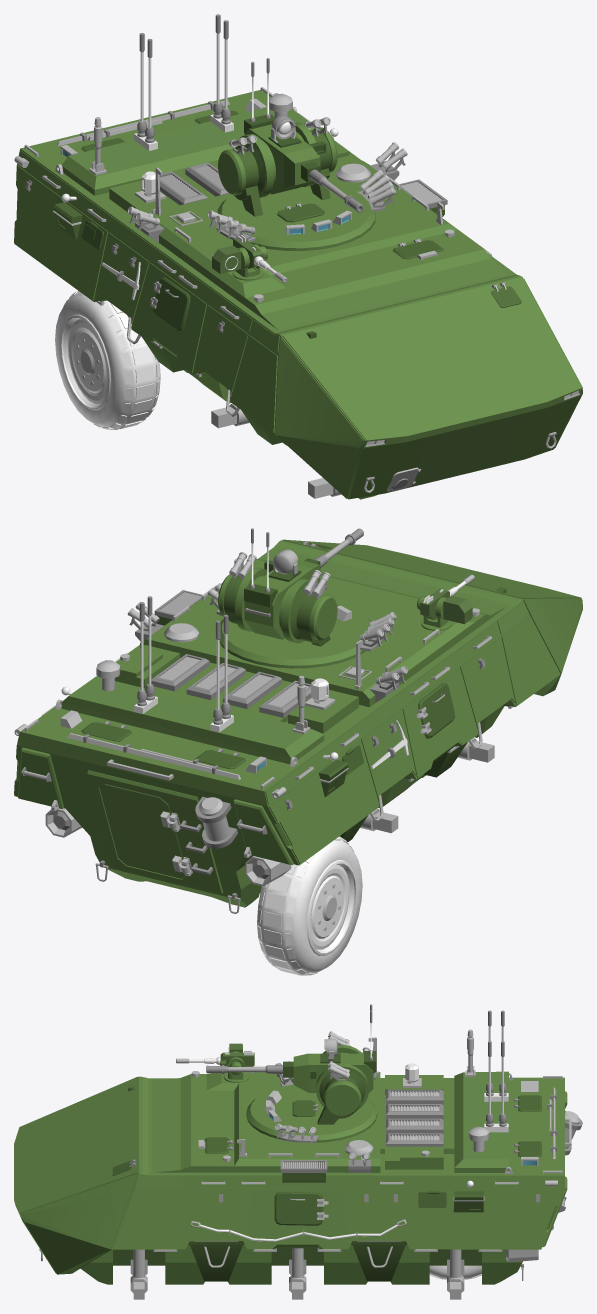
The model's file is APC.fbx.
3 views of the same model, one above another, from view 1: azimuth 30°, elevation 25°; view 2: azimuth 150°, elevation 25°; view 3: azimuth 270°, elevation 25° (orthographic). The views are drawn at different scales.
Parts seen in each view (by area): view 1: APC Body, Autocannon Tower, APC Wheel, Autocannon, Gun Turret; view 2: APC Body, Autocannon Tower, APC Wheel, Autocannon, Gun Turret, Gun Turret Tower; view 3: APC Body, Autocannon Tower, Autocannon, Gun Turret, APC Wheel, Gun Turret Tower.
Boxes of the visible parts, box(x1,y1,x2,y2) form: APC Body: box(14, 14, 582, 499); Autocannon Tower: box(207, 117, 396, 250); APC Wheel: box(55, 290, 160, 429); Autocannon: box(244, 58, 363, 212); Gun Turret: box(212, 235, 287, 282); APC Body: box(14, 539, 582, 913); Autocannon Tower: box(207, 552, 396, 668); APC Wheel: box(257, 836, 362, 975); Autocannon: box(244, 528, 363, 639); Gun Turret: box(420, 574, 474, 624); Gun Turret Tower: box(417, 594, 451, 630); APC Body: box(14, 1010, 582, 1299); Autocannon Tower: box(246, 1031, 377, 1142); Autocannon: box(206, 1004, 376, 1093); Gun Turret: box(176, 1043, 254, 1066); APC Wheel: box(429, 1265, 481, 1279); Gun Turret Tower: box(223, 1051, 248, 1082).
Bounding box in the file's own units: 3.08 × 3.86 × 6.43.
